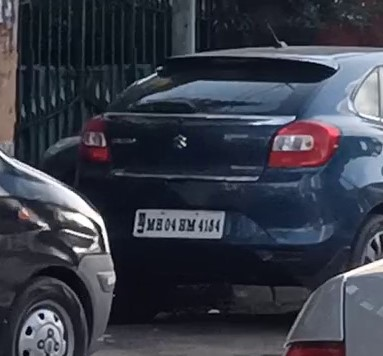MH04HM4154: (132, 209, 225, 237)
